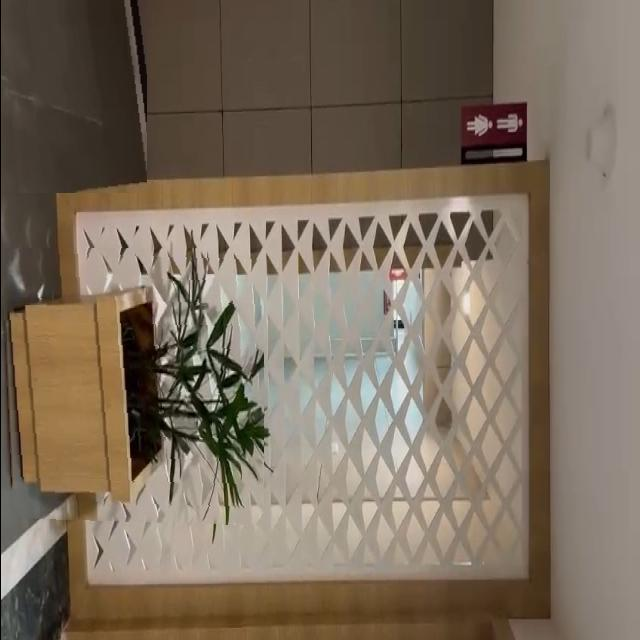floor: (0, 0, 146, 193)
furniture: (0, 248, 263, 526)
